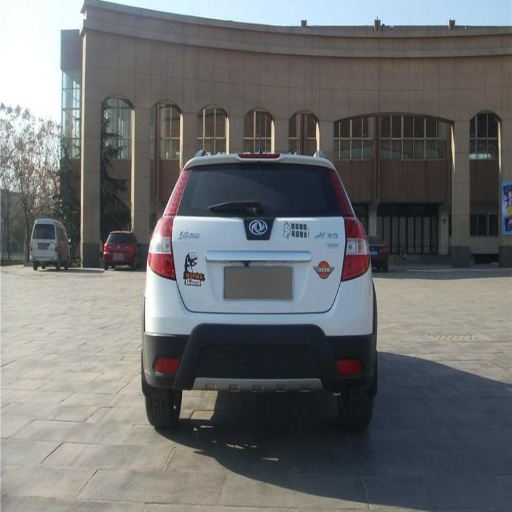back_bumper: (144, 270, 374, 394)
tailgate: (174, 215, 345, 309)
trunk: (175, 216, 280, 280)
